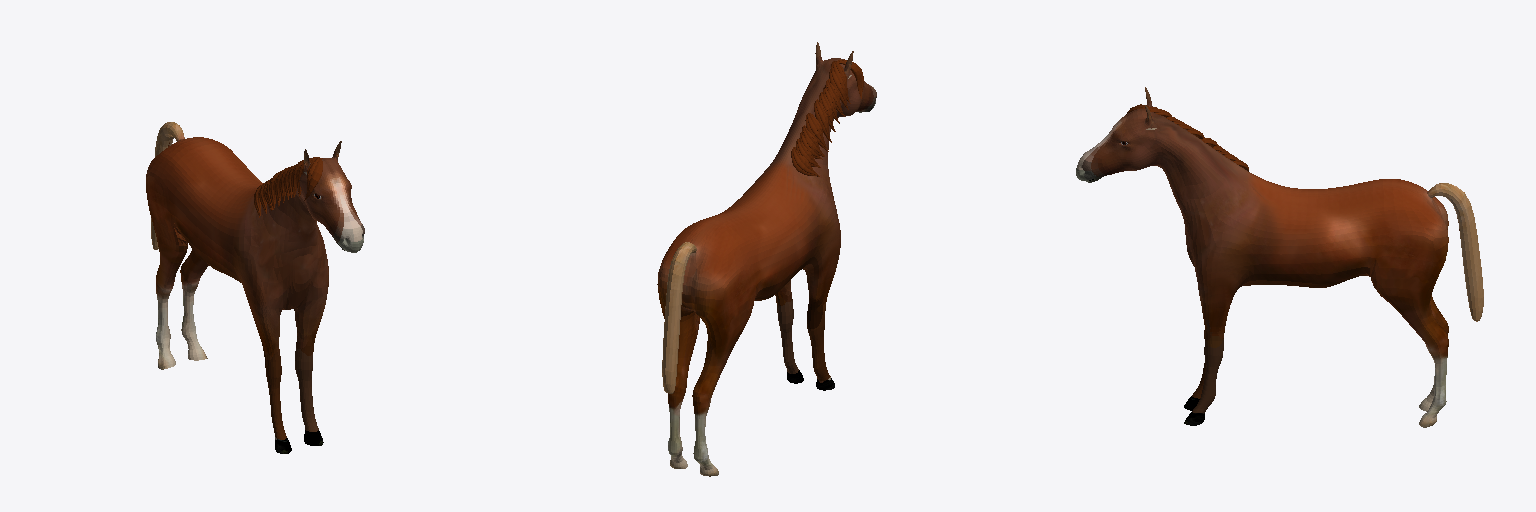
3 renders of one model, left to right at view 1: azimuth 30°, elevation 25°; view 2: azimuth 150°, elevation 25°; view 3: azimuth 270°, elevation 25°, orthographic.
Parts seen in each view (by area): view 1: Horse, BezierCurve; view 2: Horse, BezierCurve; view 3: Horse, BezierCurve.
Part boxes in pixels (bbox=[...]): Horse: bbox=[146, 122, 364, 453]; BezierCurve: bbox=[254, 157, 322, 217]; Horse: bbox=[657, 42, 876, 476]; BezierCurve: bbox=[791, 59, 863, 176]; Horse: bbox=[1076, 87, 1483, 427]; BezierCurve: bbox=[1126, 104, 1248, 171].
Bounding box in the file's own units: 0.7052 × 2.8 × 3.22.
Materials: 3 (2 with a texture image).